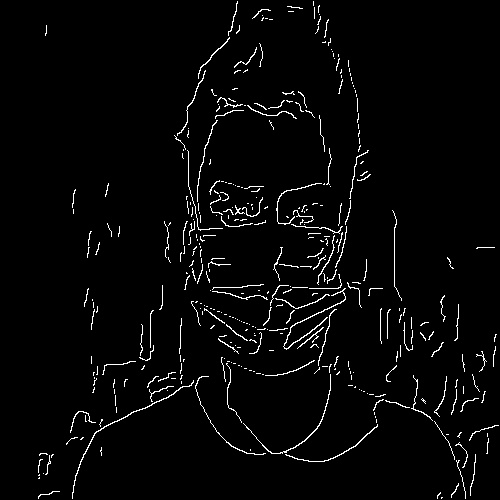mask: (183, 224, 361, 374)
